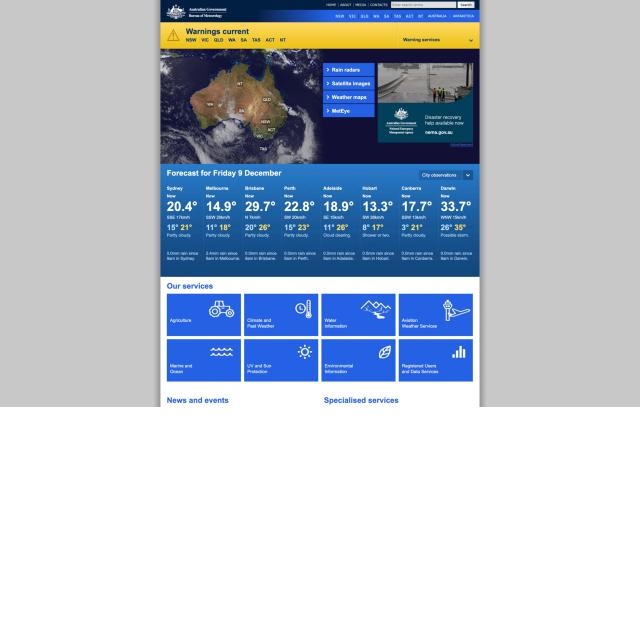input: (391, 1, 456, 8)
logo: (165, 4, 228, 20)
navigation: (167, 294, 473, 382), (334, 13, 474, 19), (185, 38, 287, 42), (325, 2, 389, 8)
